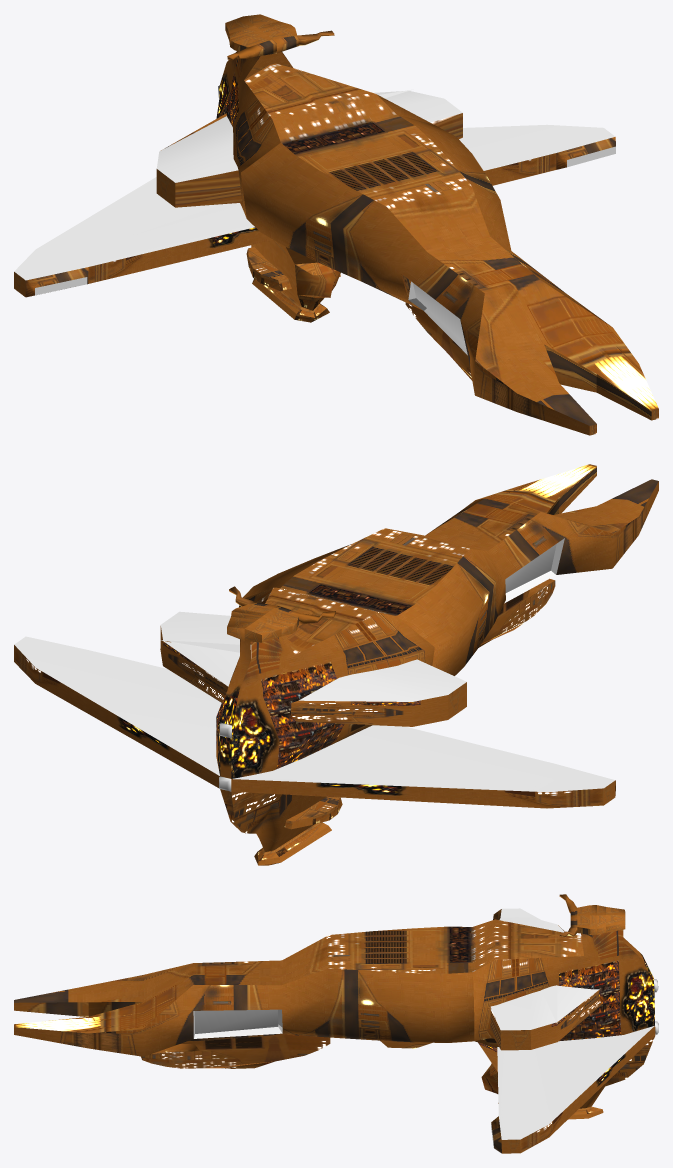
File: Car_Hutet.fbx
3 renders of one model, top to bottom at view 1: azimuth 30°, elevation 25°; view 2: azimuth 150°, elevation 25°; view 3: azimuth 270°, elevation 25°, orthographic. The views are drawn at different scales.
Visible parts, largest first — view 1: Car_Hutet; view 2: Car_Hutet; view 3: Car_Hutet.
Boxes of the visible parts, x1,y1,x2,y2 form: Car_Hutet: (14,14,658,435); Car_Hutet: (14,464,658,865); Car_Hutet: (14,894,658,1153).
Size of the model in its own units: 775 by 321 by 914.
1 material, 1 textured.
